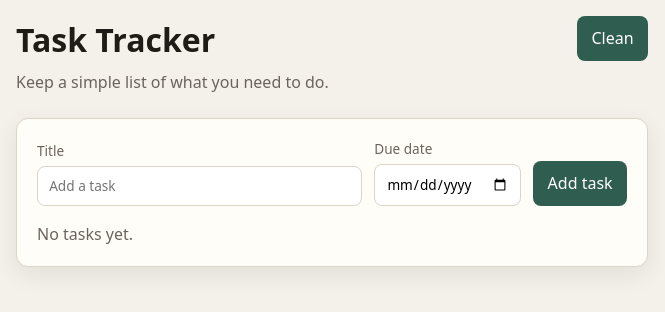
Test: TaskListPage › sends a due date and shows it on the row
Expected: the text "No tasks yet." is shown, [37, 223, 133, 245]
Type "File taxes" into the field labelled "Title".
click(200, 186); type("File taxes")  # box [37, 166, 362, 206]
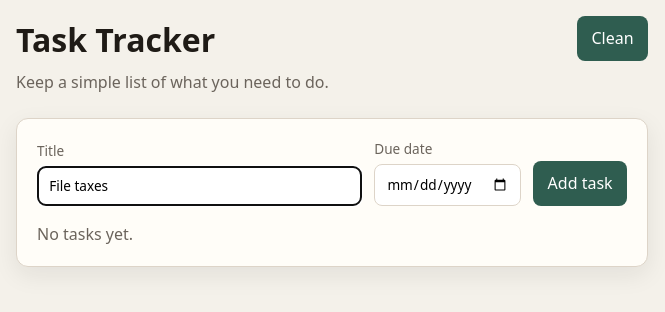
Type "2026-09-30" into the date field labelled "Due date".
click(448, 185); type("2026-09-30")  # box [374, 164, 521, 206]
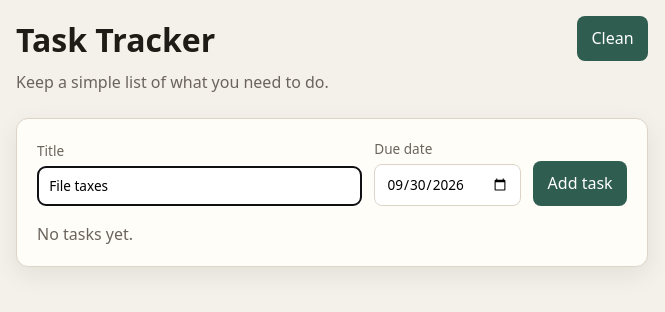
Click the button "Add task".
click(580, 183)  # box [533, 161, 627, 206]
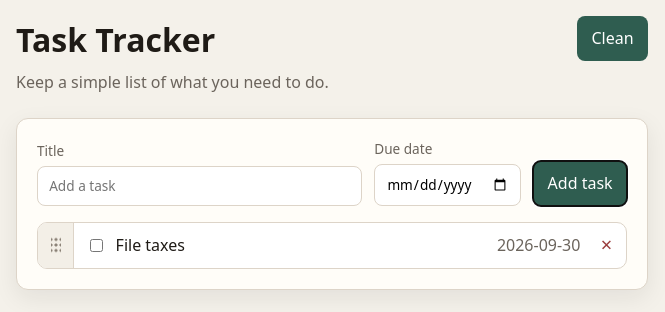
Expected: the text "2026-09-30" is shown, [497, 234, 580, 256]
